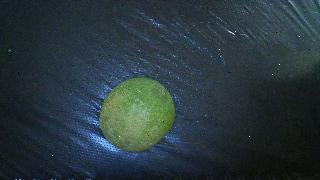DESECHO: (99, 78, 175, 152)
